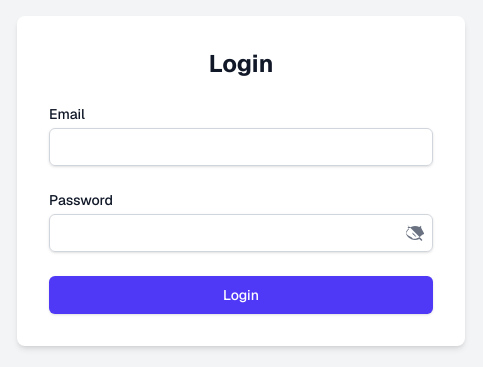
LoginPage › Basic Form Elements › Password Visibility Toggle › should display correct eye icons for show/hide states
The width and height of the screenshot is (483, 367).
// Click to show password
Click the button named "Show password". click: (415, 233)
box: [397, 214, 433, 252]
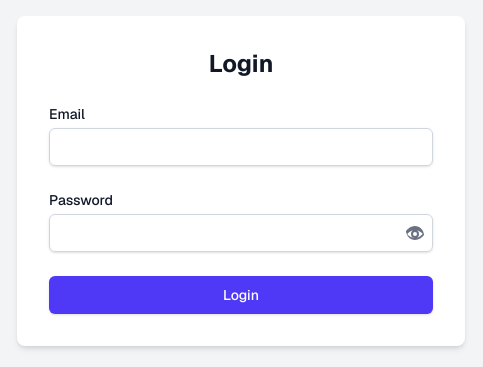
Check: the button named "Hide password" is shown, box [397, 214, 433, 252]
